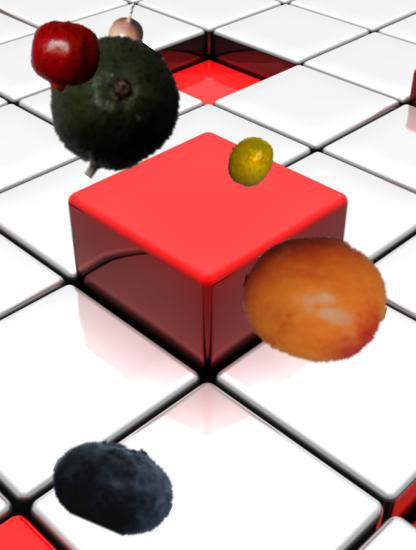Apricot: (243, 225, 388, 370)
Avocado: (42, 37, 184, 179)
Blueberry: (52, 423, 177, 548)
Granadilla: (104, 3, 156, 55)
Maracuja: (225, 136, 277, 188)
Pomegranate: (30, 20, 102, 92)
